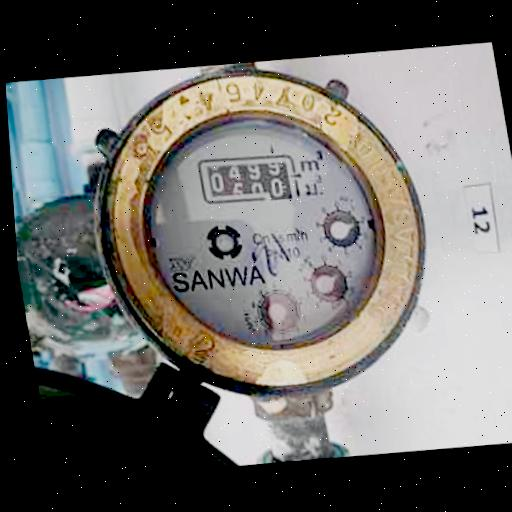0: (206, 164, 230, 198)
4: (223, 163, 249, 197)
9: (263, 160, 293, 201), (242, 162, 269, 195)
border_water_meter_number: (196, 150, 303, 209)
